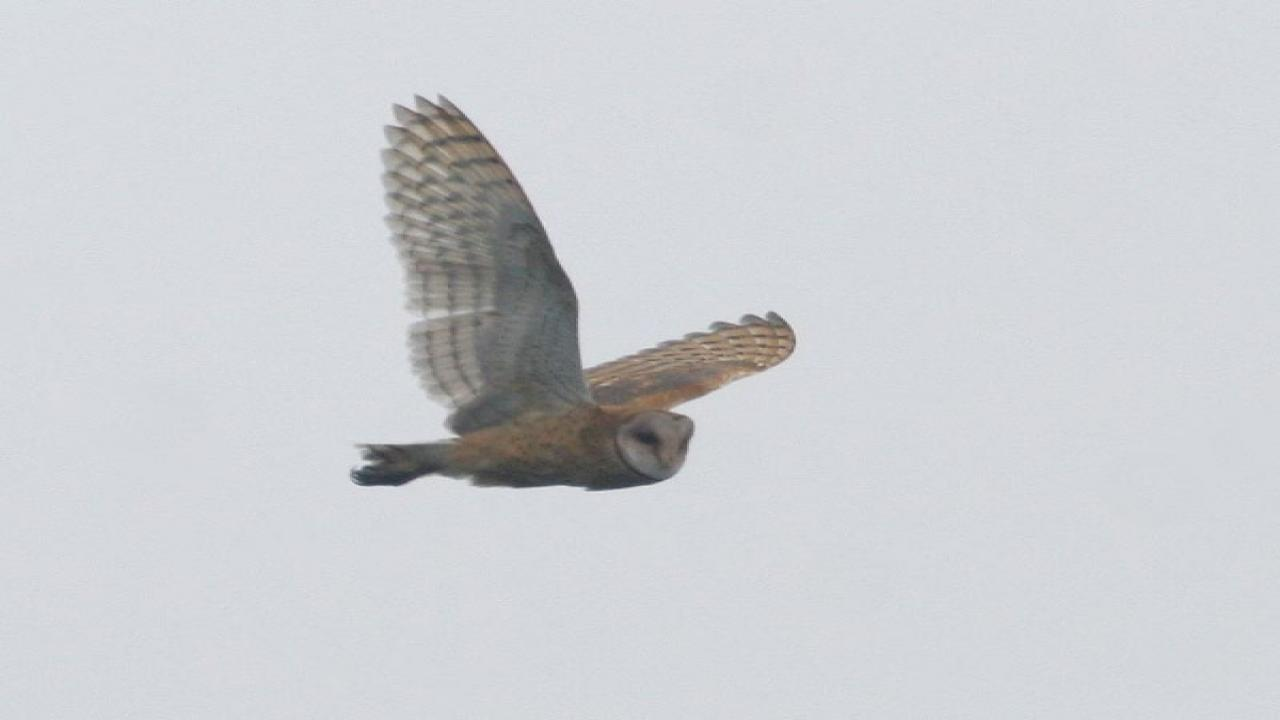Bird: (321, 84, 805, 503)
